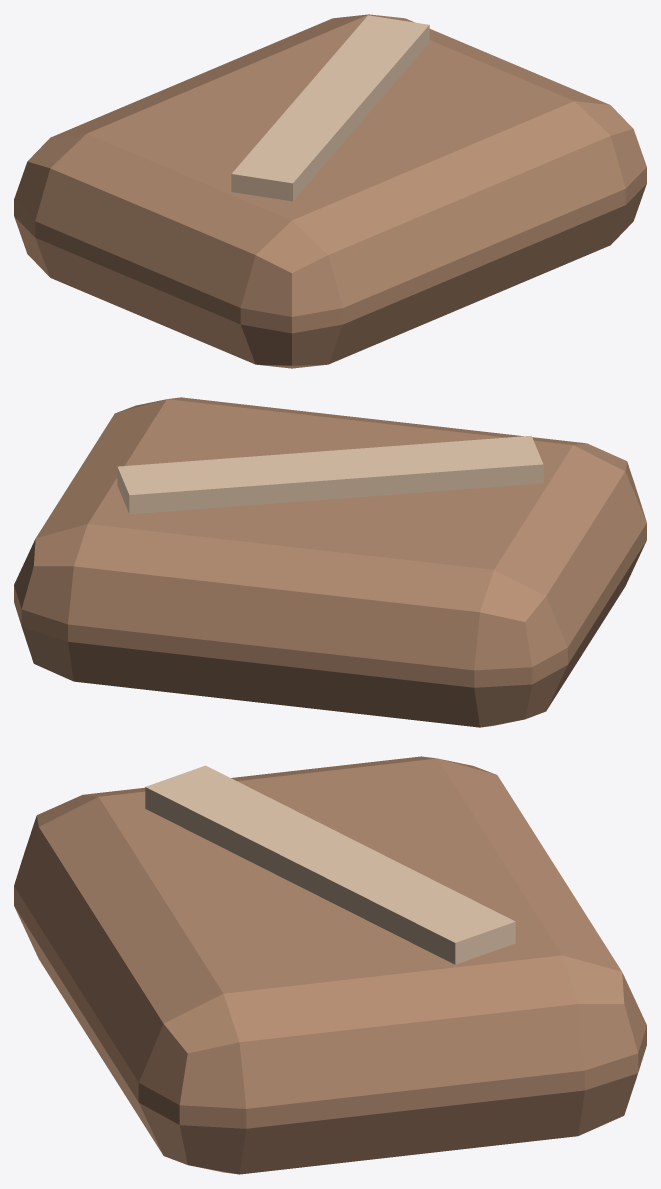
File: steak_held.gltf
The picture shows the model from 3 angles, top to bottom: view 1: azimuth 30°, elevation 25°; view 2: azimuth 150°, elevation 25°; view 3: azimuth 270°, elevation 25°; orthographic projection. The views are drawn at different scales.
Parts seen in each view (by area): view 1: animals_steak_held; view 2: animals_steak_held; view 3: animals_steak_held.
Part boxes in pixels (box(x1,y1,x2,y2)): animals_steak_held: box(14, 14, 646, 368); animals_steak_held: box(14, 397, 646, 727); animals_steak_held: box(14, 756, 646, 1174).
Size of the model in its own units: 0.1656 by 0.0505 by 0.1444.
